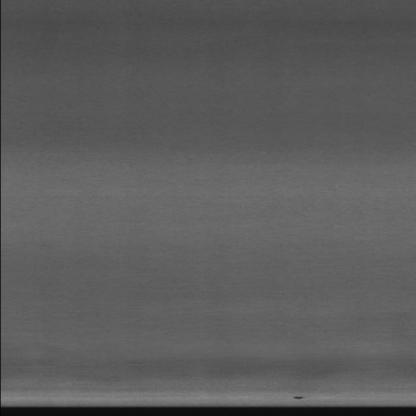inclusion: (275, 388, 318, 402)
